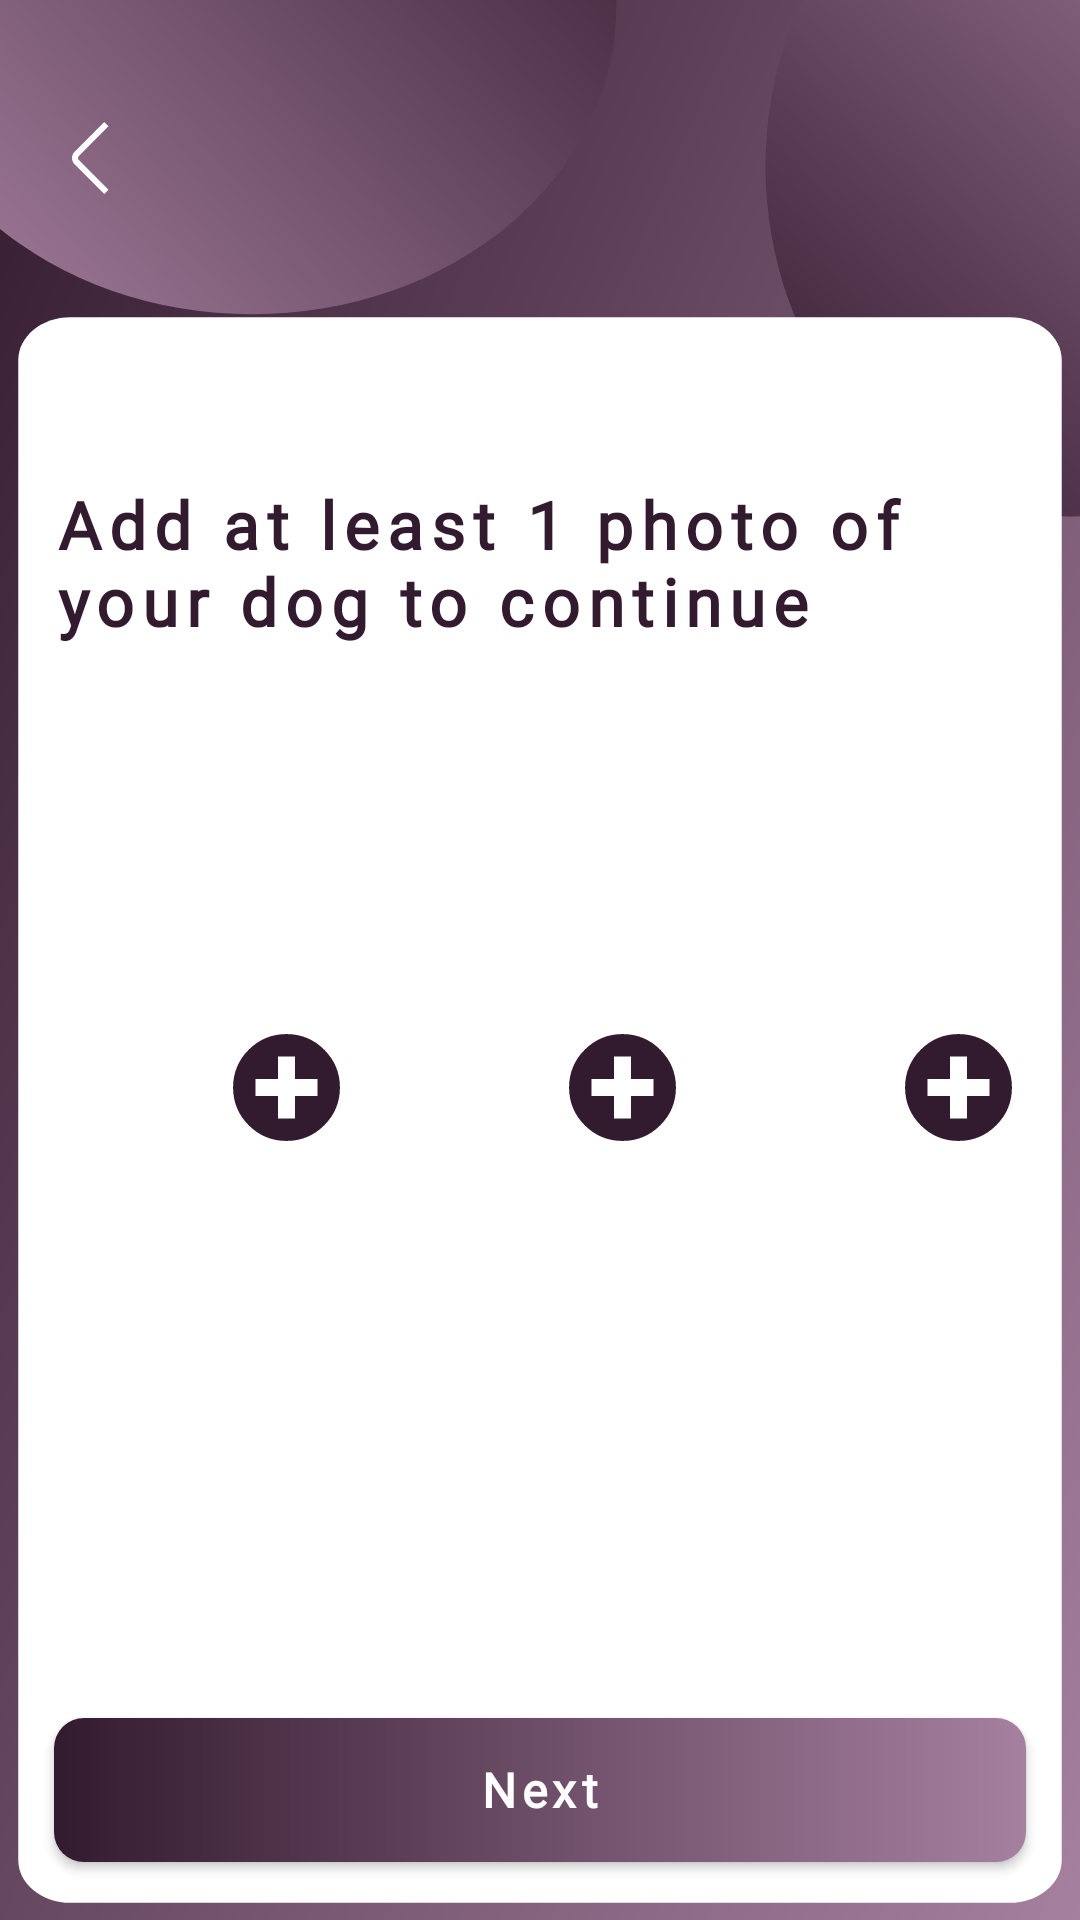

Where icons sit on this 1080 × 1920 app screen, as (x1, y1, x2, y2):
add: (233, 1034, 340, 1141), (569, 1034, 676, 1141), (905, 1034, 1012, 1141)
back arrow: (72, 122, 109, 194)
